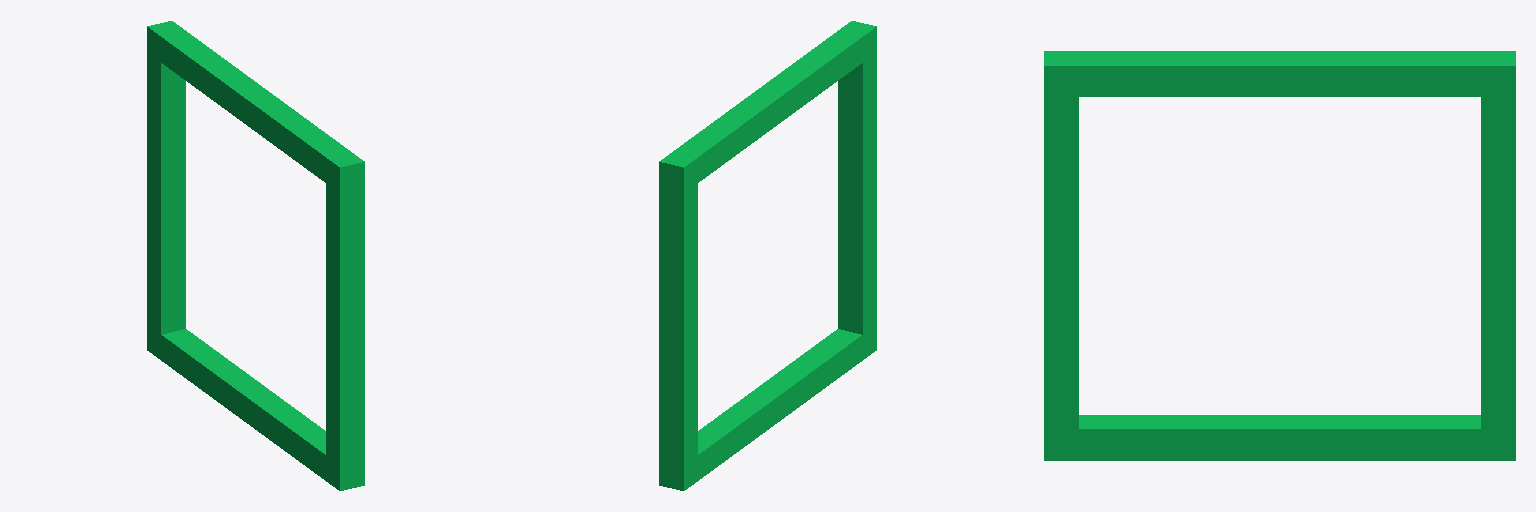
The robot description file, URDF, robot "gate_medium":
<?xml version="1.0"?>
<robot name="gate_medium">

  <!-- Medium gate material (green color to distinguish from full gate) -->
  <material name="gate_medium_material">
    <color rgba="0.1 0.8 0.4 1.0"/>
  </material>

  <!-- The base of the gate, to which all other parts are connected. -->
  <link name="base_link"/>

  <!-- Left vertical post of the gate (0.7x scale) -->
  <link name="left_post">
    <visual>
      <origin xyz="0 0 0.875" rpy="0 0 0"/>
      <geometry>
        <!-- Scaled: 0.2*0.7 = 0.14, 2.5*0.7 = 1.75 -->
        <box size="0.14 0.14 1.75"/>
      </geometry>
      <material name="gate_medium_material"/>
    </visual>
    <collision>
      <origin xyz="0 0 0.875" rpy="0 0 0"/>
      <geometry>
        <box size="0.14 0.14 1.75"/>
      </geometry>
    </collision>
    <inertial>
      <mass value="7"/>
      <inertia ixx="1.4" ixy="0.0" ixz="0.0" iyy="1.4" iyz="0.0" izz="1.4"/>
    </inertial>
  </link>

  <!-- Connects the left post to the base (0.7x scale) -->
  <joint name="base_to_left_post" type="fixed">
    <parent link="base_link"/>
    <child link="left_post"/>
    <!-- Scaled: 1.25*0.7 = 0.875 -->
    <origin xyz="0 0.875 0" rpy="0 0 0"/>
  </joint>

  <!-- Right vertical post of the gate (0.7x scale) -->
  <link name="right_post">
    <visual>
      <origin xyz="0 0 0.875" rpy="0 0 0"/>
      <geometry>
        <box size="0.14 0.14 1.75"/>
      </geometry>
      <material name="gate_medium_material"/>
    </visual>
    <collision>
      <origin xyz="0 0 0.875" rpy="0 0 0"/>
      <geometry>
        <box size="0.14 0.14 1.75"/>
      </geometry>
    </collision>
    <inertial>
      <mass value="7"/>
      <inertia ixx="1.4" ixy="0.0" ixz="0.0" iyy="1.4" iyz="0.0" izz="1.4"/>
    </inertial>
  </link>

  <!-- Connects the right post to the base (0.7x scale) -->
  <joint name="base_to_right_post" type="fixed">
    <parent link="base_link"/>
    <child link="right_post"/>
    <!-- Scaled: -1.25*0.7 = -0.875 -->
    <origin xyz="0 -0.875 0" rpy="0 0 0"/>
  </joint>

  <!-- Top horizontal bar of the gate (0.7x scale) -->
  <link name="top_bar">
    <visual>
      <origin xyz="0 0 0" rpy="0 0 0"/>
      <geometry>
        <!-- Scaled: 0.2*0.7 = 0.14, 2.7*0.7 = 1.89 -->
        <box size="0.14 1.89 0.14"/>
      </geometry>
      <material name="gate_medium_material"/>
    </visual>
    <collision>
      <origin xyz="0 0 0" rpy="0 0 0"/>
      <geometry>
        <box size="0.14 1.89 0.14"/>
      </geometry>
    </collision>
    <inertial>
      <mass value="7"/>
      <inertia ixx="1.4" ixy="0.0" ixz="0.0" iyy="1.4" iyz="0.0" izz="1.4"/>
    </inertial>
  </link>

  <!-- Connects the top bar to the base (0.7x scale) -->
  <joint name="base_to_top_bar" type="fixed">
    <parent link="base_link"/>
    <child link="top_bar"/>
    <!-- Scaled: 2.4*0.7 = 1.68 -->
    <origin xyz="0 0 1.68" rpy="0 0 0"/>
  </joint>

  <!-- Bottom horizontal bar of the gate (0.7x scale) -->
  <link name="bottom_bar">
    <visual>
      <origin xyz="0 0 0" rpy="0 0 0"/>
      <geometry>
        <box size="0.14 1.89 0.14"/>
      </geometry>
      <material name="gate_medium_material"/>
    </visual>
    <collision>
      <origin xyz="0 0 0" rpy="0 0 0"/>
      <geometry>
        <box size="0.14 1.89 0.14"/>
      </geometry>
    </collision>
    <inertial>
      <mass value="7"/>
      <inertia ixx="1.4" ixy="0.0" ixz="0.0" iyy="1.4" iyz="0.0" izz="1.4"/>
    </inertial>
  </link>

  <!-- Connects the bottom bar to the base (0.7x scale) -->
  <joint name="base_to_bottom_bar" type="fixed">
    <parent link="base_link"/>
    <child link="bottom_bar"/>
    <!-- Scaled: 0.1*0.7 = 0.07 -->
    <origin xyz="0 0 0.07" rpy="0 0 0"/>
  </joint>

</robot> 

--- Facts derived from the render (not from the file) ---
3 views of the same robot in one strip: view 1: azimuth 30°, elevation 25°; view 2: azimuth 150°, elevation 25°; view 3: azimuth 270°, elevation 25° (orthographic).
Model gate_medium with 5 links and 4 joints (4 fixed), rooted at base_link, posed every joint at zero.
Visible links, largest first — view 1: right_post, left_post, top_bar, bottom_bar; view 2: left_post, right_post, top_bar, bottom_bar; view 3: bottom_bar, top_bar, left_post, right_post.
Boxes of the visible links, x1=… form: right_post: x1=326, y1=151, x2=364, y2=490; left_post: x1=147, y1=21, x2=185, y2=359; top_bar: x1=147, y1=21, x2=364, y2=192; bottom_bar: x1=147, y1=325, x2=364, y2=489; left_post: x1=659, y1=152, x2=697, y2=490; right_post: x1=838, y1=21, x2=876, y2=359; top_bar: x1=659, y1=21, x2=876, y2=193; bottom_bar: x1=659, y1=325, x2=876, y2=490; bottom_bar: x1=1044, y1=415, x2=1515, y2=460; top_bar: x1=1044, y1=51, x2=1515, y2=96; left_post: x1=1481, y1=51, x2=1515, y2=460; right_post: x1=1044, y1=51, x2=1078, y2=460.
Bounding box of the posed robot: 0.14 × 1.89 × 1.75 m (x, y, z).
Geometry: primitives only (box / cylinder / sphere), no mesh files.
